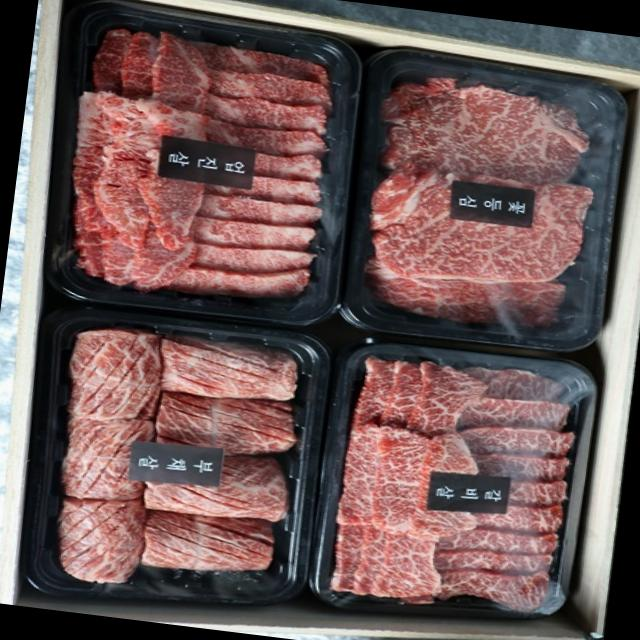beef: (65, 24, 342, 308), (340, 364, 575, 608), (364, 160, 590, 306), (388, 66, 601, 192), (149, 341, 300, 411), (136, 505, 268, 581), (56, 486, 150, 592), (73, 327, 158, 426)
